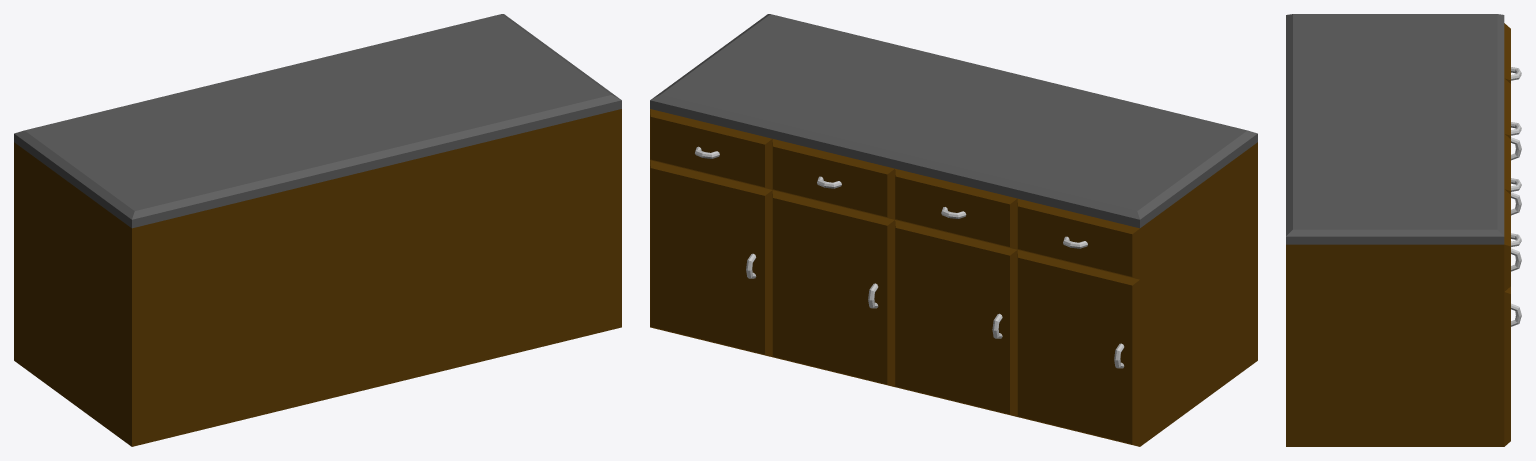
File: SM_Workbench_001.fbx
3 views of the same model, side by side, from view 1: azimuth 30°, elevation 25°; view 2: azimuth 150°, elevation 25°; view 3: azimuth 270°, elevation 25° (orthographic). The views are drawn at different scales.
Visible parts, largest first — view 1: pCube2; view 2: pCube2; view 3: pCube2.
Boxes of the visible parts, box(x1,y1,x2,y2) form: pCube2: box(14, 14, 621, 446); pCube2: box(650, 14, 1257, 446); pCube2: box(1286, 14, 1521, 446).
Bounding box in the file's own units: 120 × 54.17 × 54.01.
